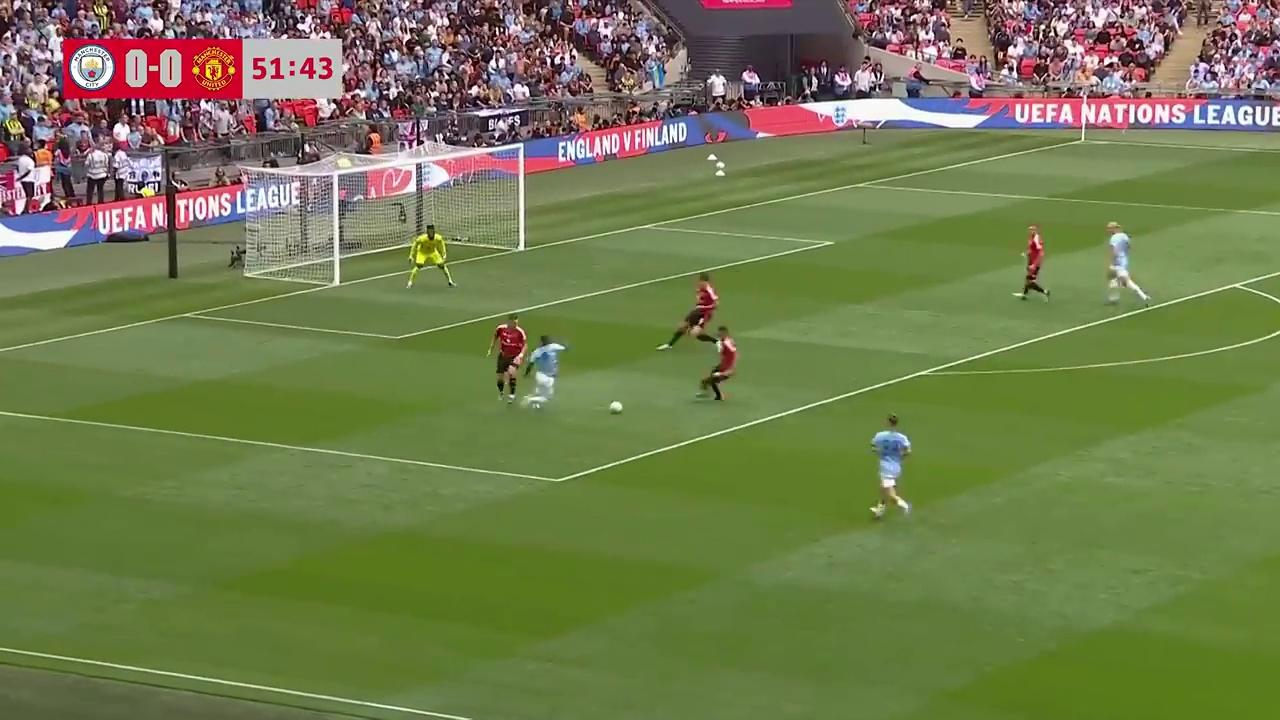ball: (608, 398, 624, 414)
player: (869, 414, 912, 519), (667, 274, 719, 347), (1103, 222, 1148, 305), (486, 316, 528, 402), (522, 334, 569, 409), (404, 224, 456, 288), (696, 326, 738, 401), (1017, 224, 1049, 302)
